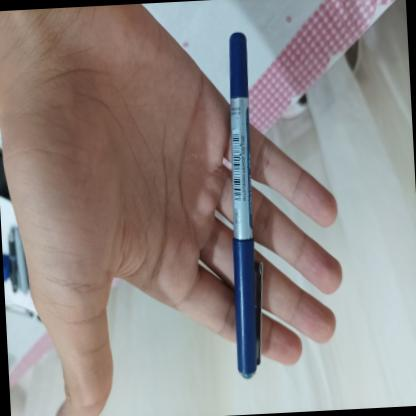pencil: (228, 30, 263, 386)
